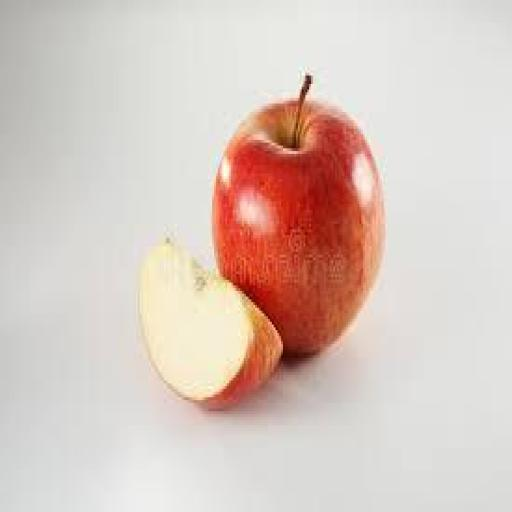apple: (213, 76, 383, 352)
